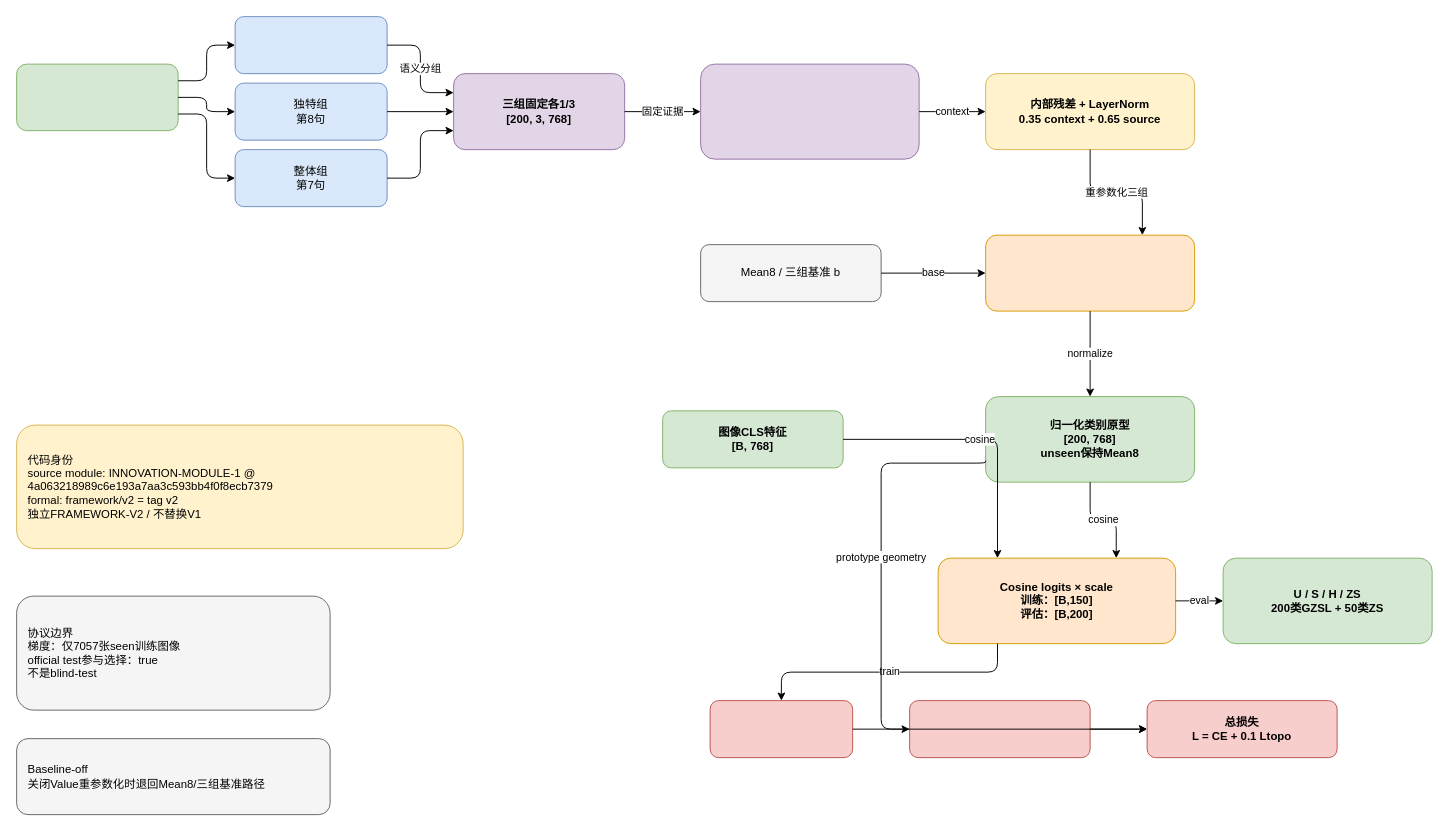
The diagram is 1449 pixels wide and 831 high, and some of its shapes have lost their labels. Each missing label, with the centre of its shape:
"8句语义缓存 [200, 8, 768]" goes at point 97,97.
"Seen CE" goes at point 781,729.
"Topology loss × 0.1 保持200类关系" goes at point 999,729.
"共享单一Value路径 V(768→768) + Output + Projection" goes at point 809,111.
"外部残差融合 0.35 b + 0.65/3 Σg̃k" goes at point 1090,272.
"局部组 前6句均值" goes at point 310,45.
